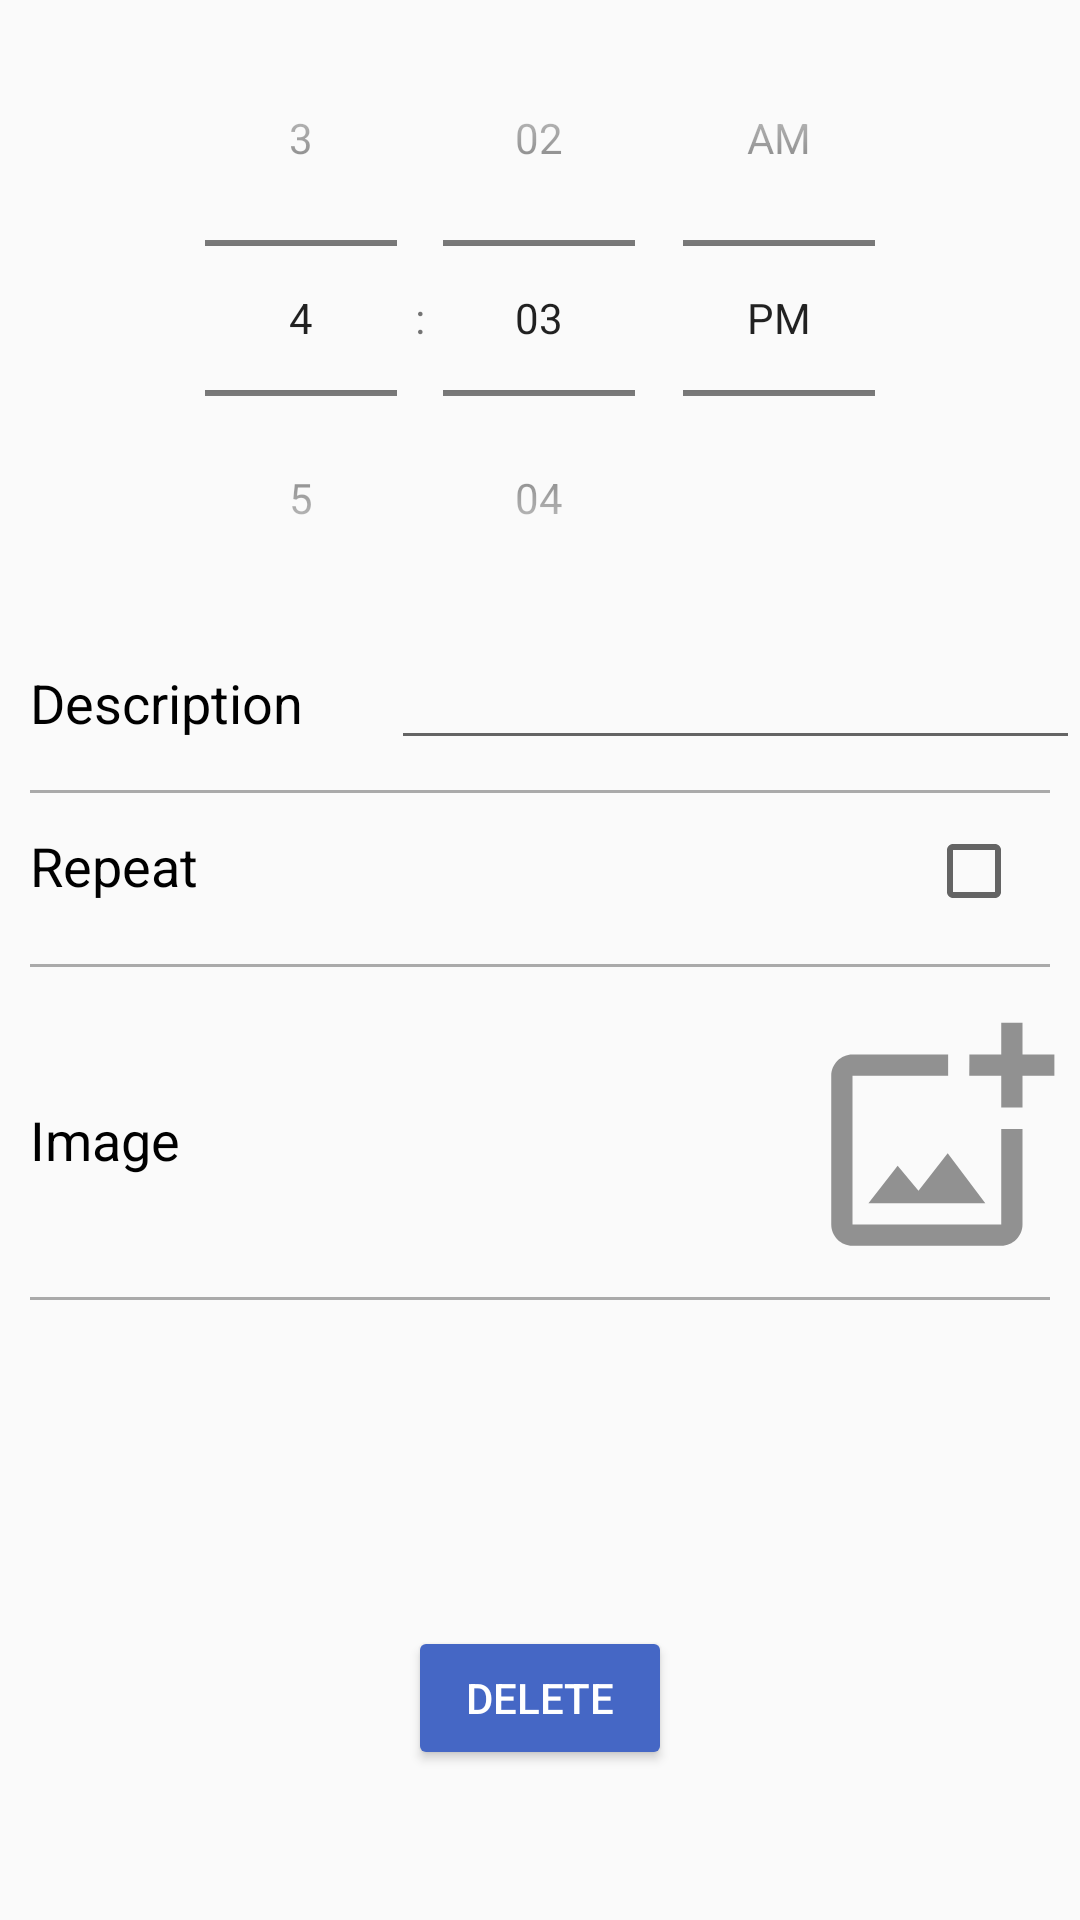

Icons on this 1080 × 1920 Android screen, each with its box as (x1, y1, x2, y2):
add photo alternate: (831, 1022, 1055, 1246)
